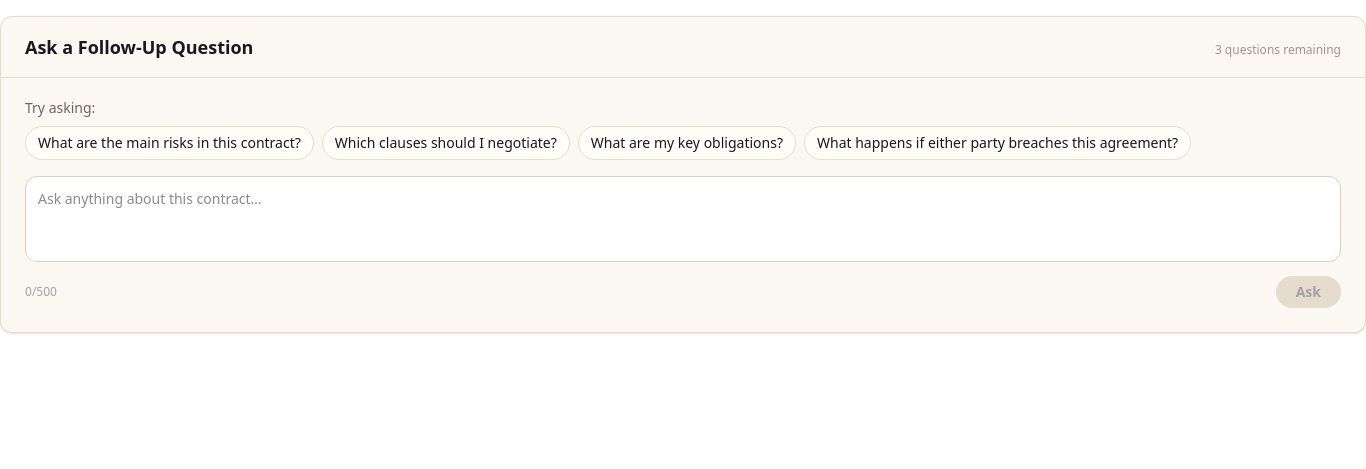
Test case: FollowUpInput › shows loading indicator while fetching
Type "Test question?" into the text box named "Follow-up question". click: (683, 219)
box: [25,176,1341,262]
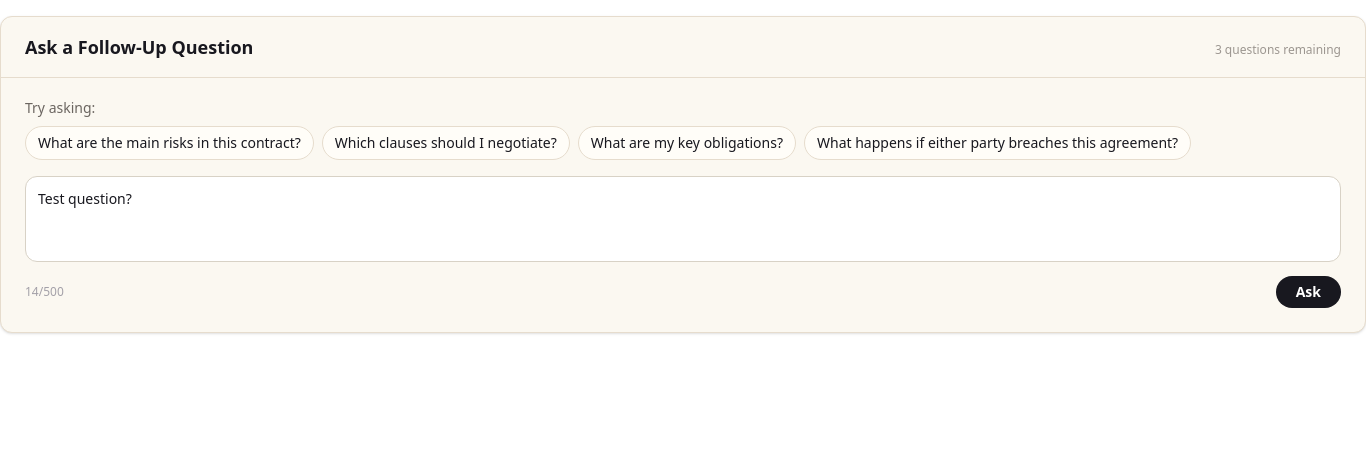
Click the button "Ask". click: (1308, 292)
box: [1276,276,1341,308]
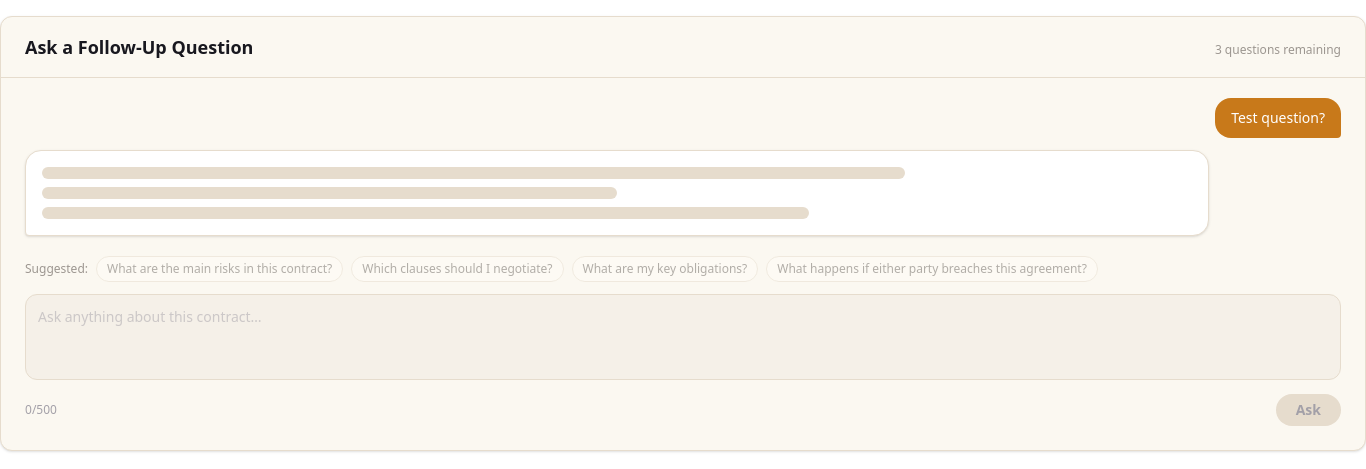
Expected: the message named "Generating answer" is shown, [41,167,905,219]
